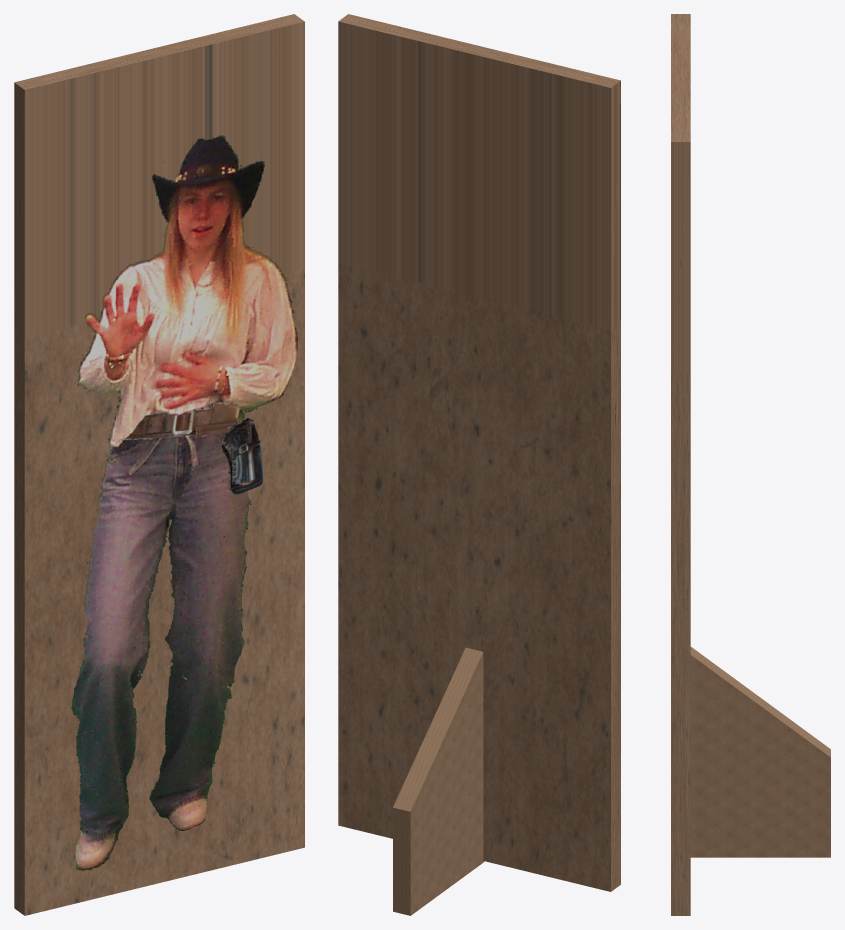
3 renders of one model, left to right at view 1: azimuth 30°, elevation 25°; view 2: azimuth 150°, elevation 25°; view 3: azimuth 270°, elevation 25°, orthographic. The views are drawn at different scales.
Parts seen in each view (by area): view 1: Cube, 3-hit; view 2: Cube, Cube.001; view 3: Cube.001, Cube.
Boxes of the visible parts, x1,y1,x2,y2 form: Cube: (14, 14, 304, 915); 3-hit: (71, 135, 297, 870); Cube: (338, 14, 620, 891); Cube.001: (393, 647, 484, 915); Cube.001: (690, 647, 830, 857); Cube: (671, 14, 690, 915).
Bounding box in the file's own units: 466 × 1316 × 272.
